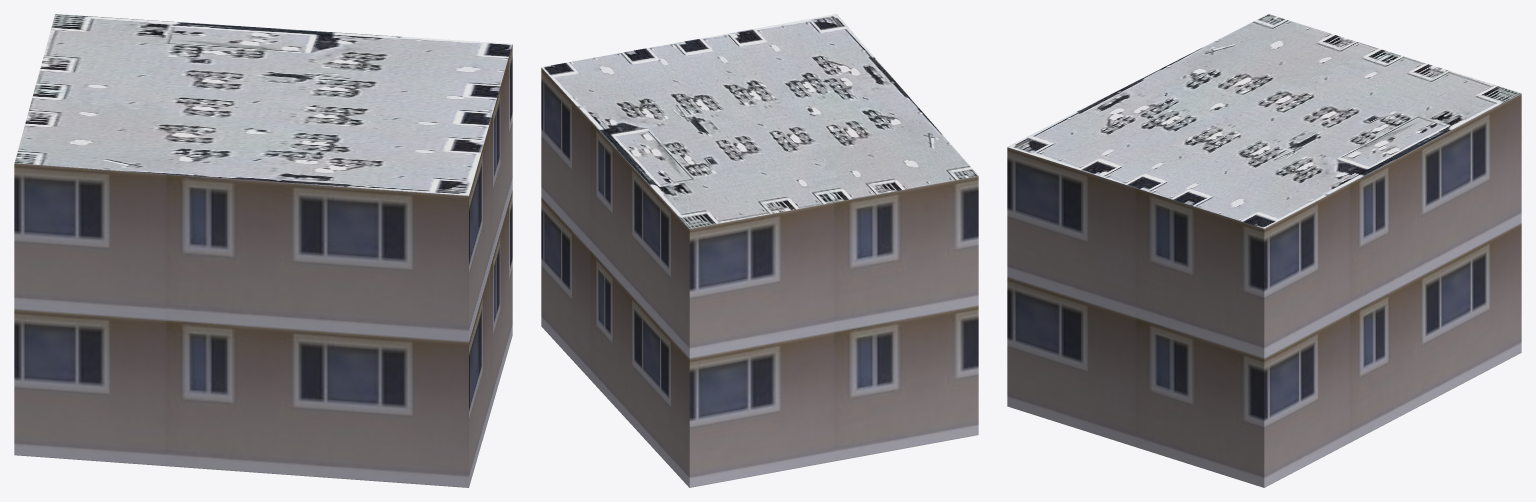
The model's file is ResTex__102.fbx.
3 renders of one model, left to right at view 1: azimuth 30°, elevation 25°; view 2: azimuth 150°, elevation 25°; view 3: azimuth 270°, elevation 25°, orthographic. The views are drawn at different scales.
Visible parts, largest first — view 1: CityEngineMaterial_21_m, CityEngineMaterial_4_m; view 2: CityEngineMaterial_21_m, CityEngineMaterial_4_m; view 3: CityEngineMaterial_21_m, CityEngineMaterial_4_m.
Boxes of the visible parts, box(x1,y1,x2,y2) form: CityEngineMaterial_21_m: box(14, 44, 512, 487); CityEngineMaterial_4_m: box(14, 14, 512, 195); CityEngineMaterial_21_m: box(541, 68, 978, 487); CityEngineMaterial_4_m: box(541, 14, 978, 228); CityEngineMaterial_21_m: box(1007, 93, 1521, 487); CityEngineMaterial_4_m: box(1007, 14, 1521, 228).
Size of the model in its own units: 10.66 by 6 by 10.79.
Materials: 2 (2 with a texture image).
